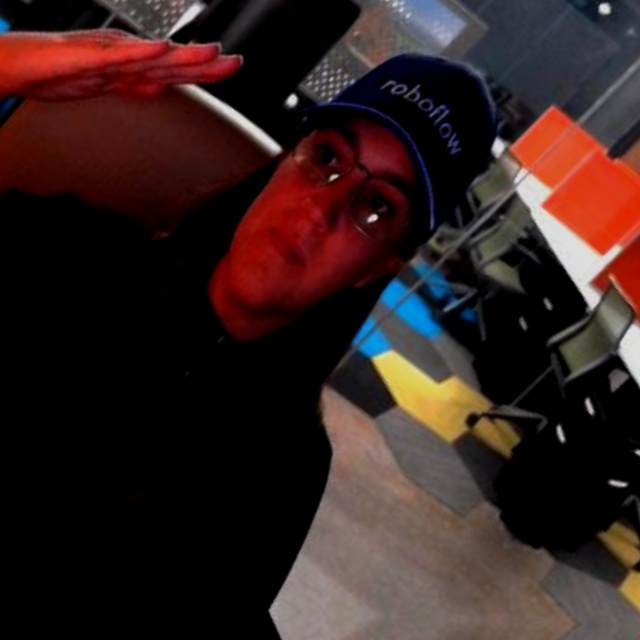Paper: (0, 0, 339, 295)
